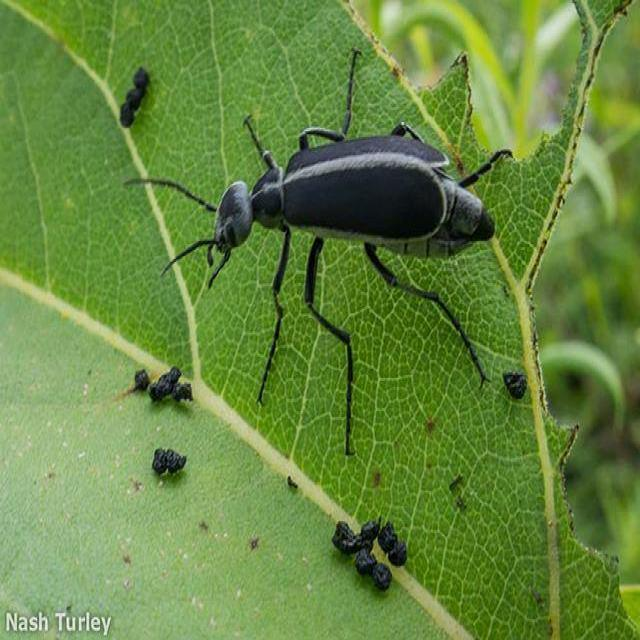BlisterBeetle-Adult-: (120, 42, 513, 456)
